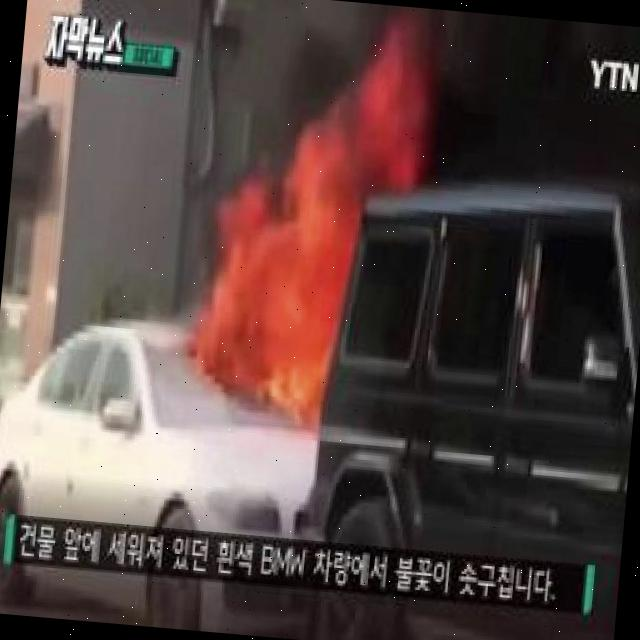fire: (212, 86, 424, 429)
